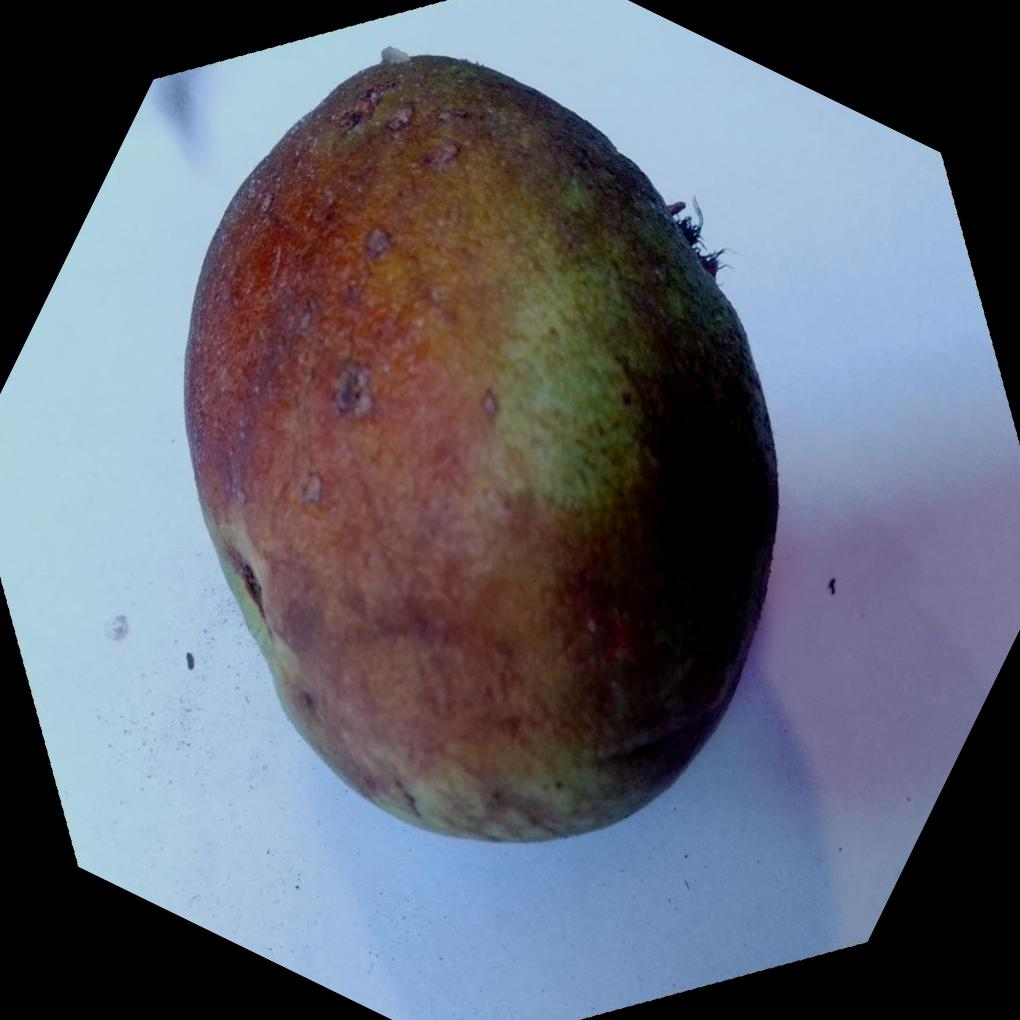FreshOrange: (180, 56, 779, 848)
